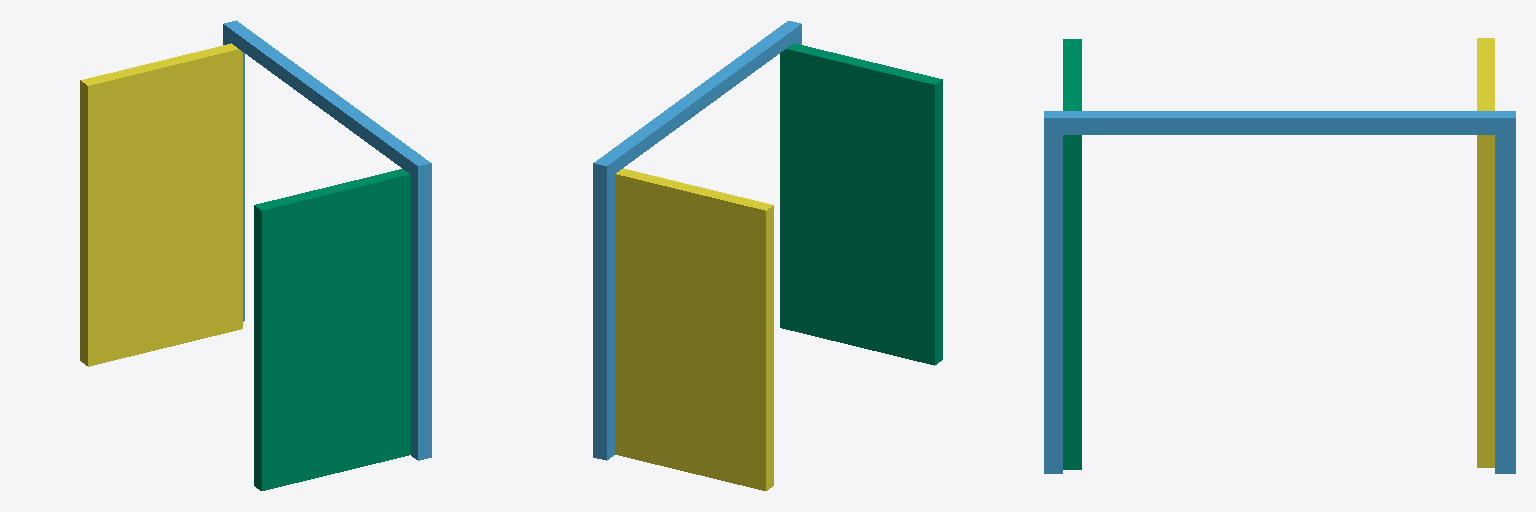
URDF robot description (partnet_2753e8bebebc0178df463805cb1ccf64):
<?xml version="1.0" ?>
<robot name="partnet_2753e8bebebc0178df463805cb1ccf64">
	<link name="base"/>
	<link name="link_0">
		<visual name="outside_frame-1">
			<origin xyz="0 0 0"/>
			<geometry>
				<mesh filename="textured_objs/original-3.obj"/>
			</geometry>
		</visual>
		<collision>
			<origin xyz="0 0 0"/>
			<geometry>
				<mesh filename="textured_objs/original-3.obj"/>
			</geometry>
		</collision>
	</link>
	<joint name="joint_0" type="fixed">
		<origin rpy="1.570796326794897 0 -1.570796326794897" xyz="0 0 0"/>
		<child link="link_0"/>
		<parent link="base"/>
	</joint>
	<link name="link_1">
		<visual name="surface_board-4">
			<origin xyz="-0.6565763310656445 -0.6039490103721619 0.2868443977383123"/>
			<geometry>
				<mesh filename="textured_objs/original-1.obj"/>
			</geometry>
		</visual>
		<collision>
			<origin xyz="-0.6565763310656445 -0.6039490103721619 0.2868443977383123"/>
			<geometry>
				<mesh filename="textured_objs/original-1.obj"/>
			</geometry>
		</collision>
	</link>
	<joint name="joint_1" type="revolute">
		<origin xyz="0.6565763310656445 0.6039490103721619 -0.2868443977383123"/>
		<axis xyz="0 1 0"/>
		<child link="link_1"/>
		<parent link="link_0"/>
		<limit lower="-1.5707963267948966" upper="0.0"/>
	</joint>
	<link name="link_2">
		<visual name="surface_board-5">
			<origin xyz="0.6563044937505024 -0.6039490103721619 0.278828785368932"/>
			<geometry>
				<mesh filename="textured_objs/original-2.obj"/>
			</geometry>
		</visual>
		<collision>
			<origin xyz="0.6563044937505024 -0.6039490103721619 0.278828785368932"/>
			<geometry>
				<mesh filename="textured_objs/original-2.obj"/>
			</geometry>
		</collision>
	</link>
	<joint name="joint_2" type="revolute">
		<origin xyz="-0.6563044937505024 0.6039490103721619 -0.278828785368932"/>
		<axis xyz="0 -1 0"/>
		<child link="link_2"/>
		<parent link="link_0"/>
		<limit lower="-1.5707963267948966" upper="-0.0"/>
	</joint>
</robot>

--- Render facts (derived) ---
Views: 3 orthographic renders of the robot side by side, from view 1: azimuth 30°, elevation 25°; view 2: azimuth 150°, elevation 25°; view 3: azimuth 270°, elevation 25°.
Robot: partnet_2753e8bebebc0178df463805cb1ccf64 — 4 links, 3 joints (2 revolute, 1 fixed); root link base; default pose: every joint at zero.
Visible links, largest first — view 1: link_2, link_1, link_0; view 2: link_1, link_2, link_0; view 3: link_0, link_1, link_2.
Link boxes in pixels (x1,y1,x2,y2): link_2: (80,43,242,366); link_1: (254,169,410,490); link_0: (223,20,431,460); link_1: (780,43,942,365); link_2: (615,168,773,490); link_0: (593,21,801,460); link_0: (1044,111,1515,473); link_1: (1063,39,1081,469); link_2: (1477,38,1494,467).
Bounding box of the posed robot: 0.7098 × 1.46 × 1.21 m (x, y, z).
Meshes: 3 distinct files referenced, 3 mesh visuals loaded (3 OBJ).